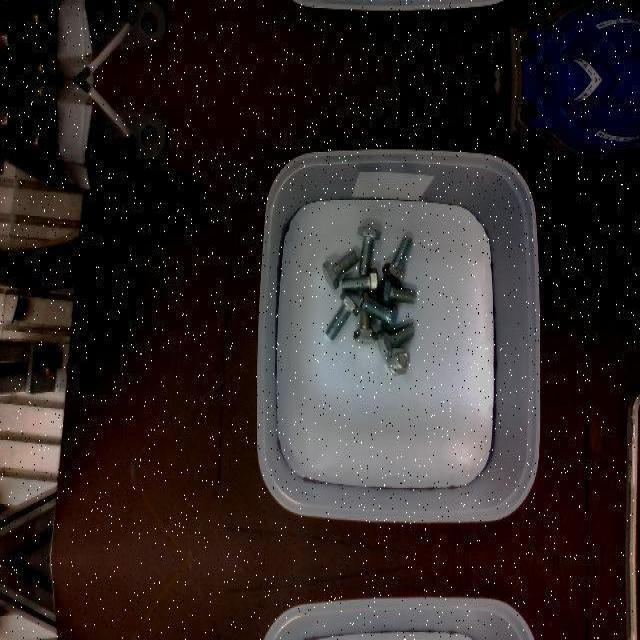screw: (325, 290, 360, 340), (381, 235, 413, 285), (359, 295, 398, 333), (322, 250, 359, 290), (376, 321, 414, 359), (378, 275, 417, 305), (358, 226, 381, 276), (342, 267, 379, 297)
